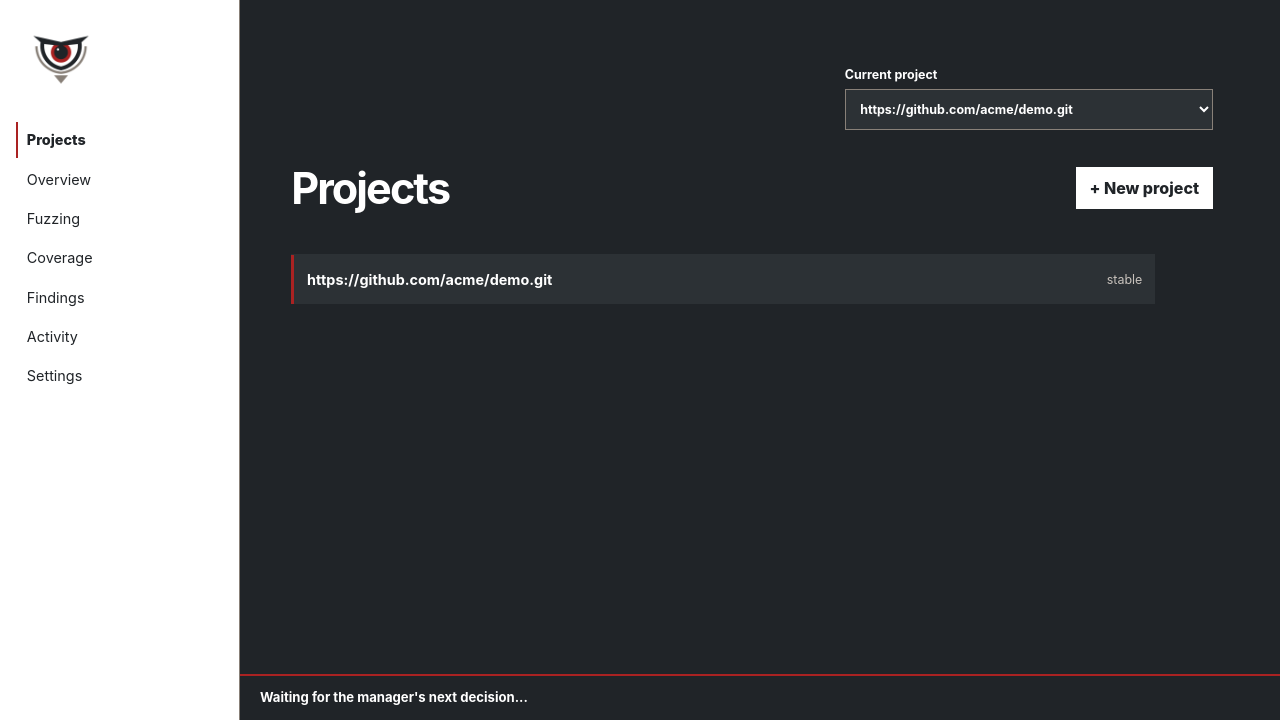
Test: App journey › creates a project with revision and an optional private token
Click the button "+ New project" at coordinates (1144, 188), box [1076,167,1213,209]
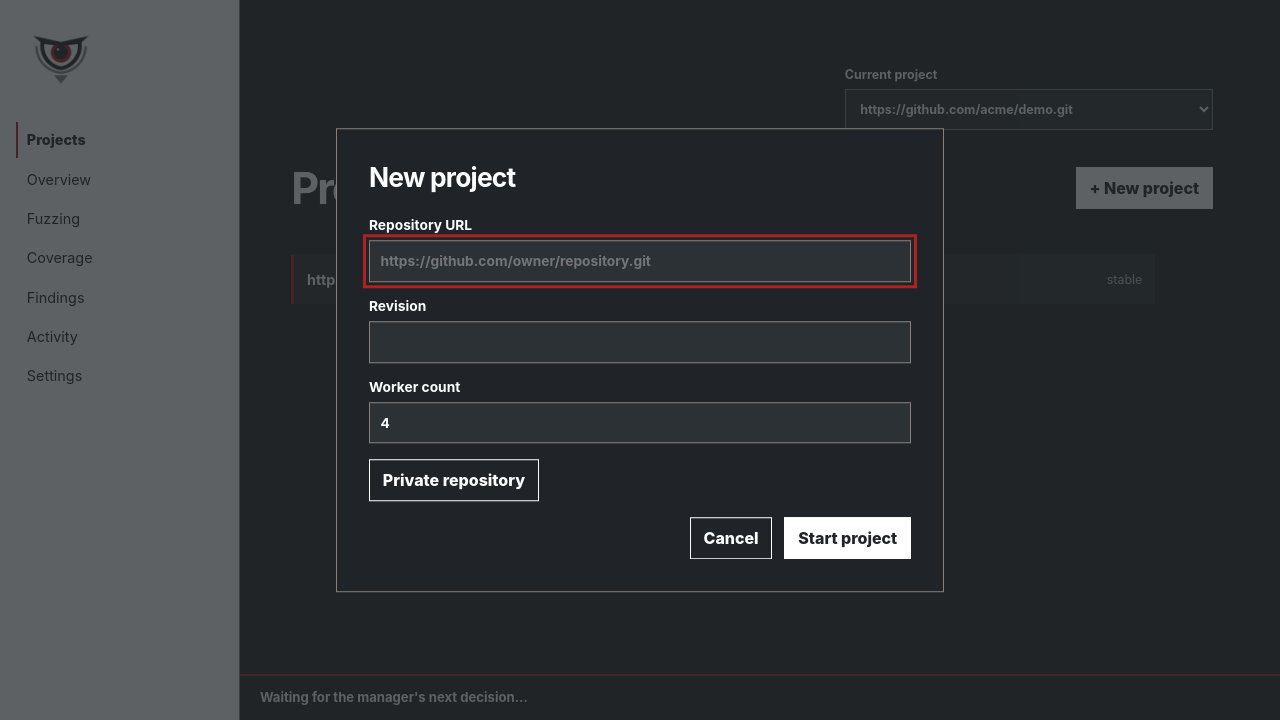
Type "https://github.com/acme/demo.git" into the field labelled "Repository URL" at coordinates (640, 261), box [369,240,911,282]
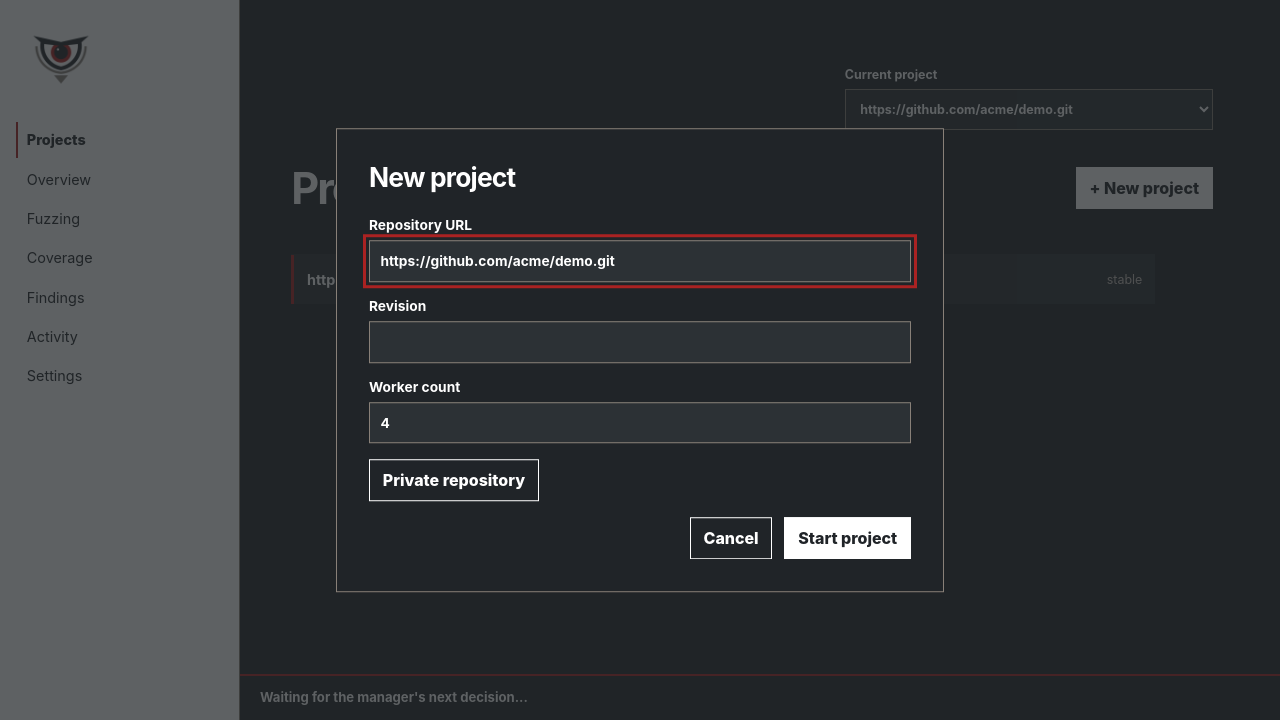
Type "stable" into the field labelled "Revision" at coordinates (640, 342), box [369,321,911,363]
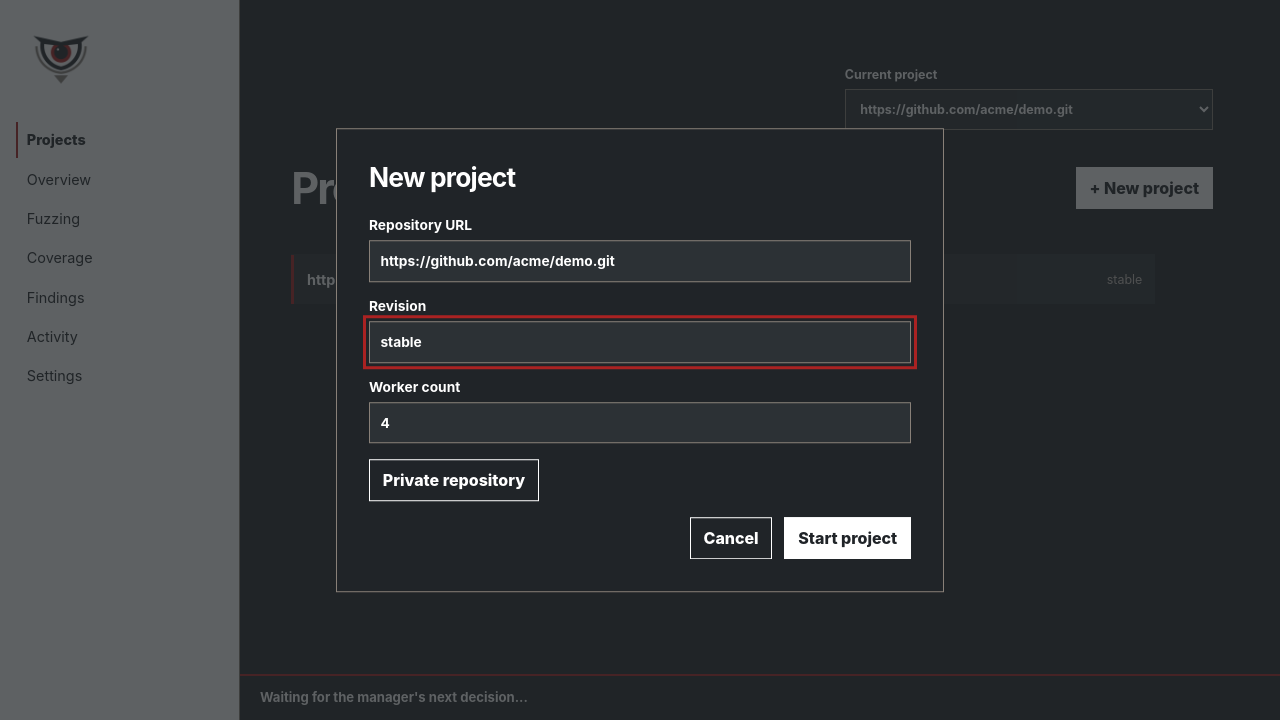
Click the button "Private repository" at coordinates (454, 480), box [369,460,539,501]
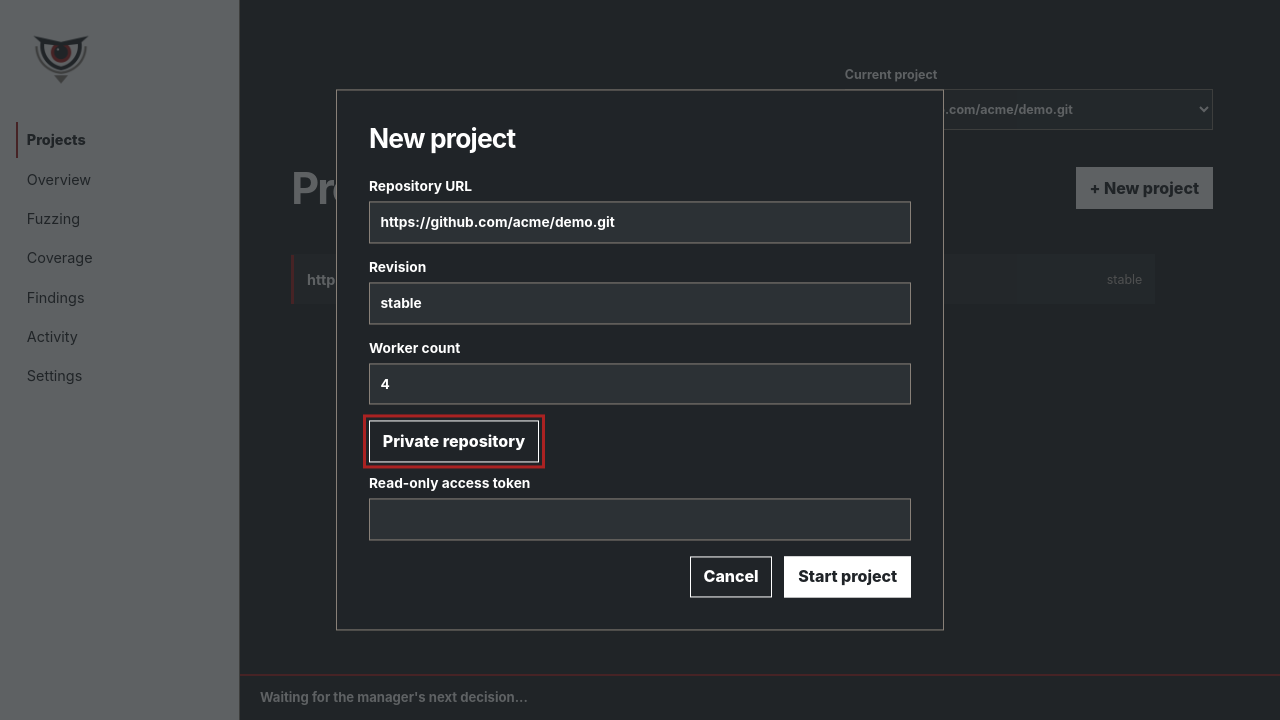
Type "token" into the password field labelled "Read-only access token" at coordinates (640, 519), box [369,498,911,540]
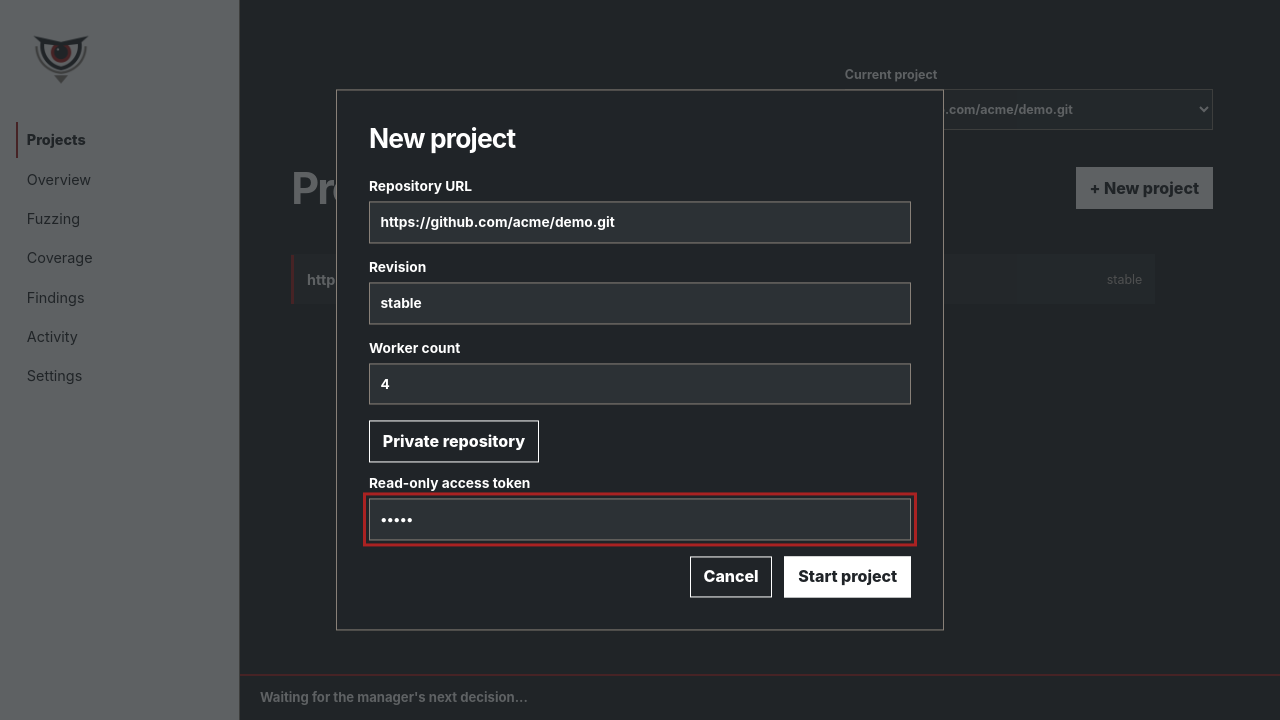
Click the button "Start project" at coordinates (848, 577), box [784,556,911,598]
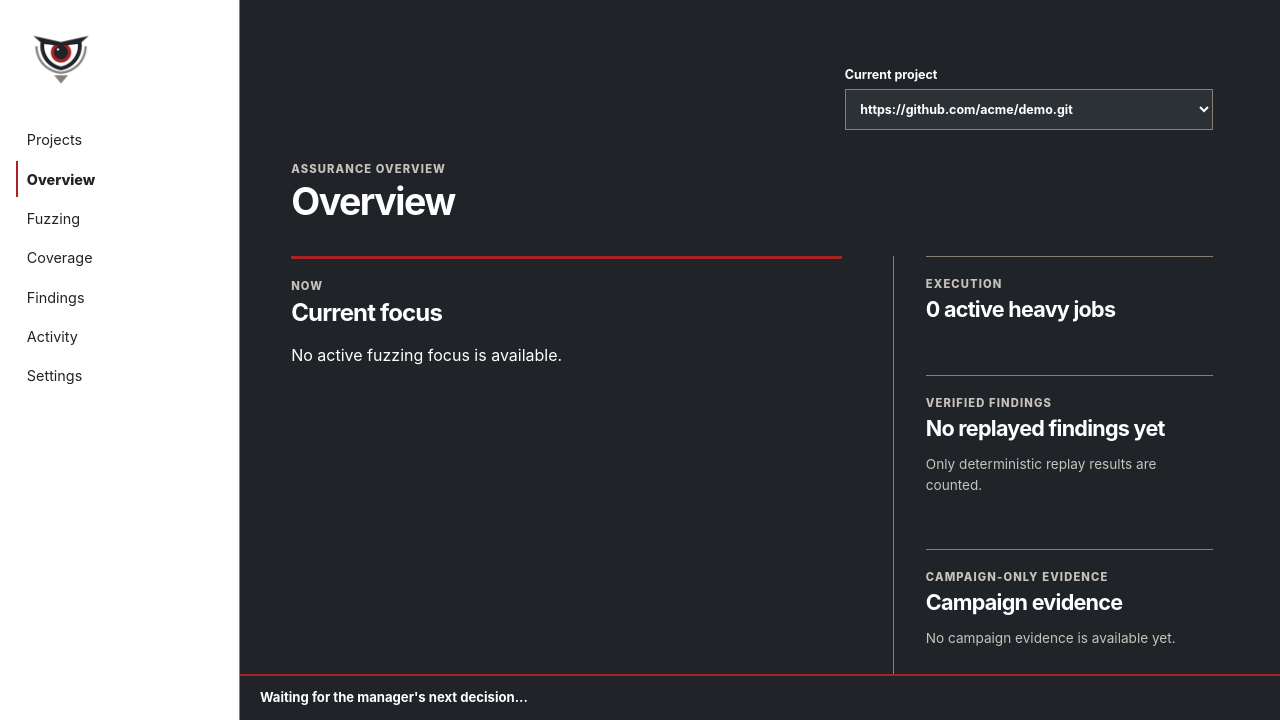
expect the heading "Overview" is shown: met, box [291,179,455,224]
